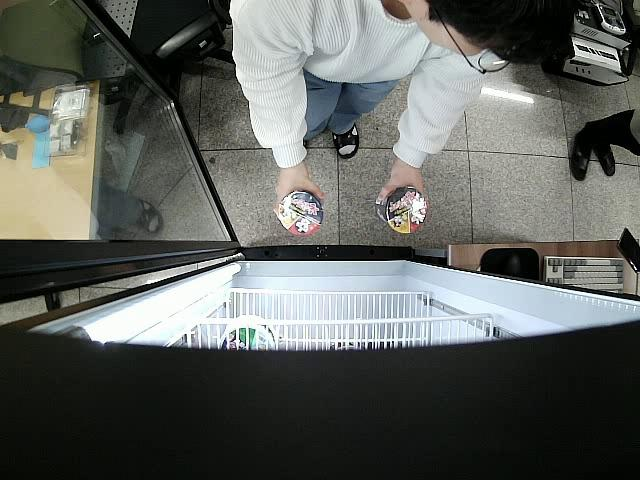00_hand: (274, 168, 323, 221), (380, 166, 424, 206)
08_buldak_S: (375, 186, 427, 234), (278, 189, 324, 237)
